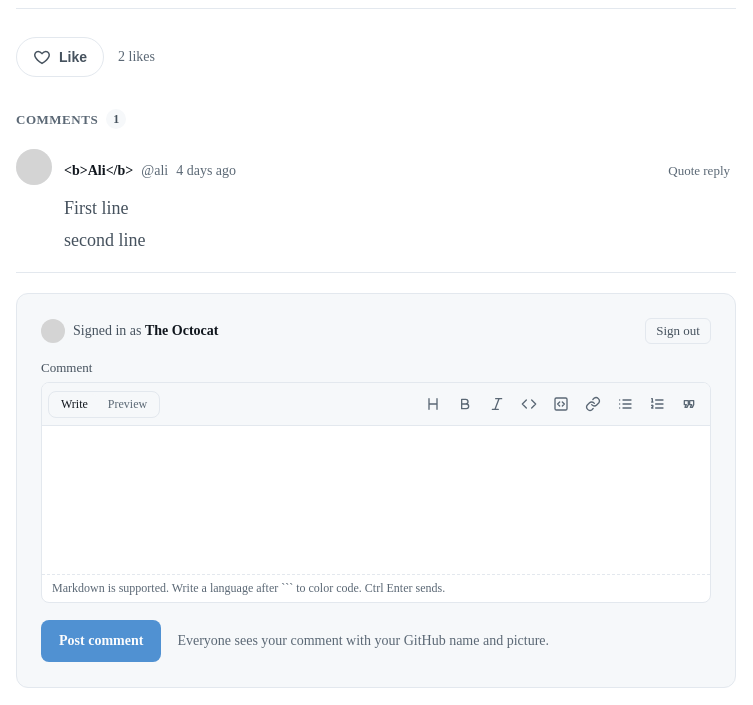
Test: PostReactions › takes the server count and state after a like
Click the button "Like".
click(60, 57)  # box [16,37,104,77]
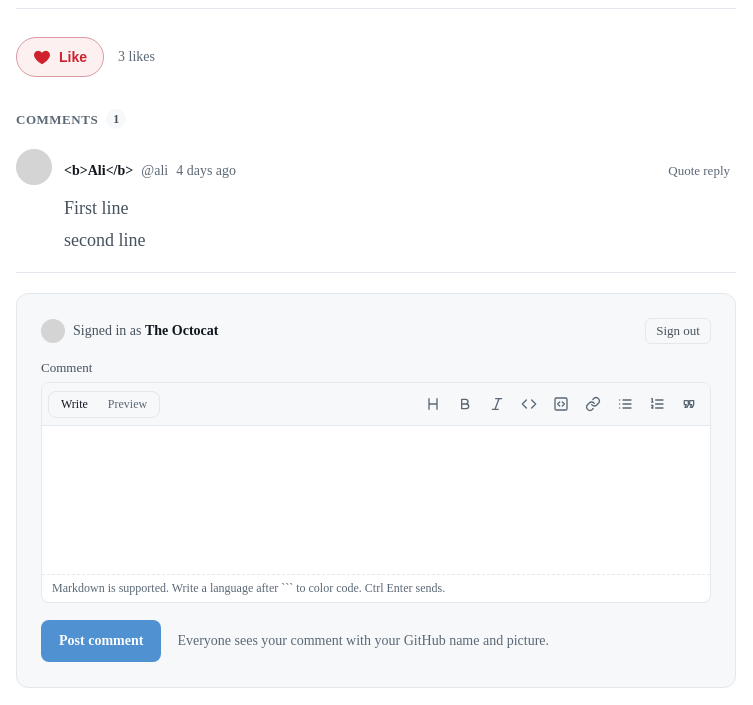
Now the text "3 likes" is shown, box [118,49,155,65]
